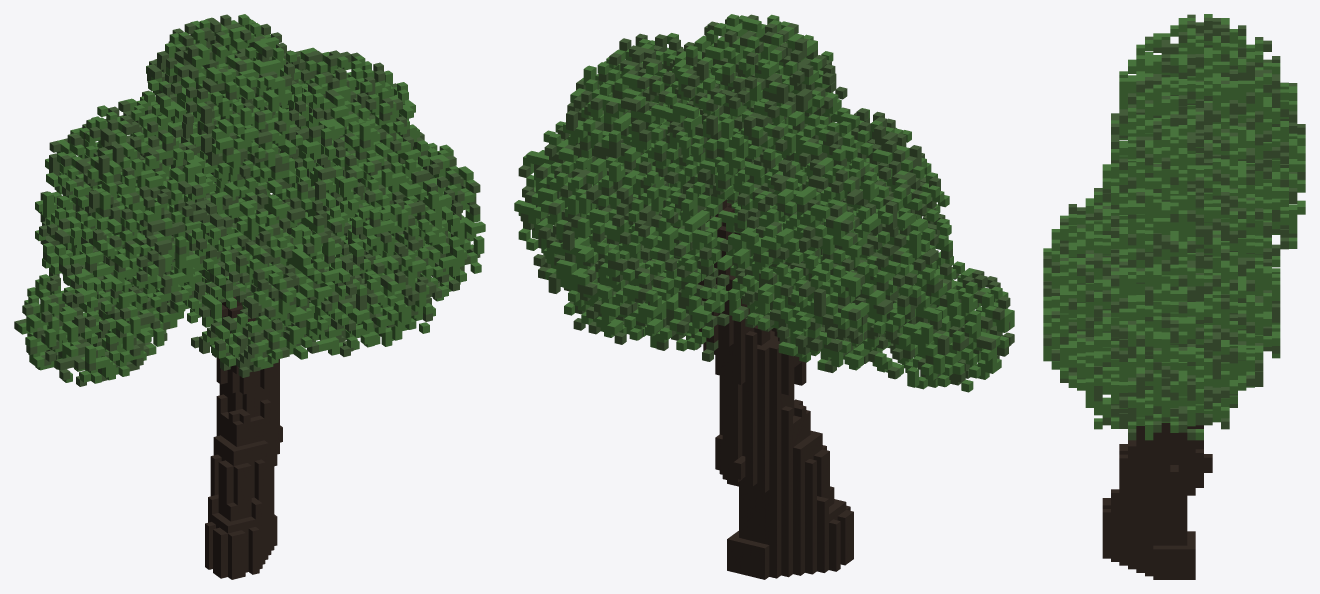
Rendered from Korean castle_tree_02.FBX.
The picture shows the model from 3 angles, left to right: view 1: azimuth 30°, elevation 25°; view 2: azimuth 150°, elevation 25°; view 3: azimuth 270°, elevation 25°; orthographic projection. The views are drawn at different scales.
Visible parts, largest first — view 1: Voxel_Korean_traditional castle-4; view 2: Voxel_Korean_traditional castle-4; view 3: Voxel_Korean_traditional castle-4.
Boxes of the visible parts, x1=… form: Voxel_Korean_traditional castle-4: x1=14, y1=14, x2=485, y2=579; Voxel_Korean_traditional castle-4: x1=514, y1=14, x2=1014, y2=579; Voxel_Korean_traditional castle-4: x1=1043, y1=14, x2=1305, y2=579.
Size of the model in its own units: 124 by 140 by 62.04.
Materials: 1 (1 with a texture image).
